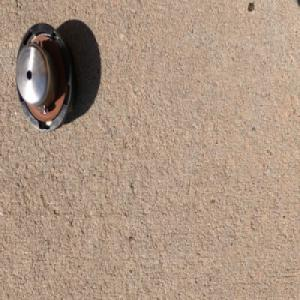FuelCap: (14, 21, 78, 137)
